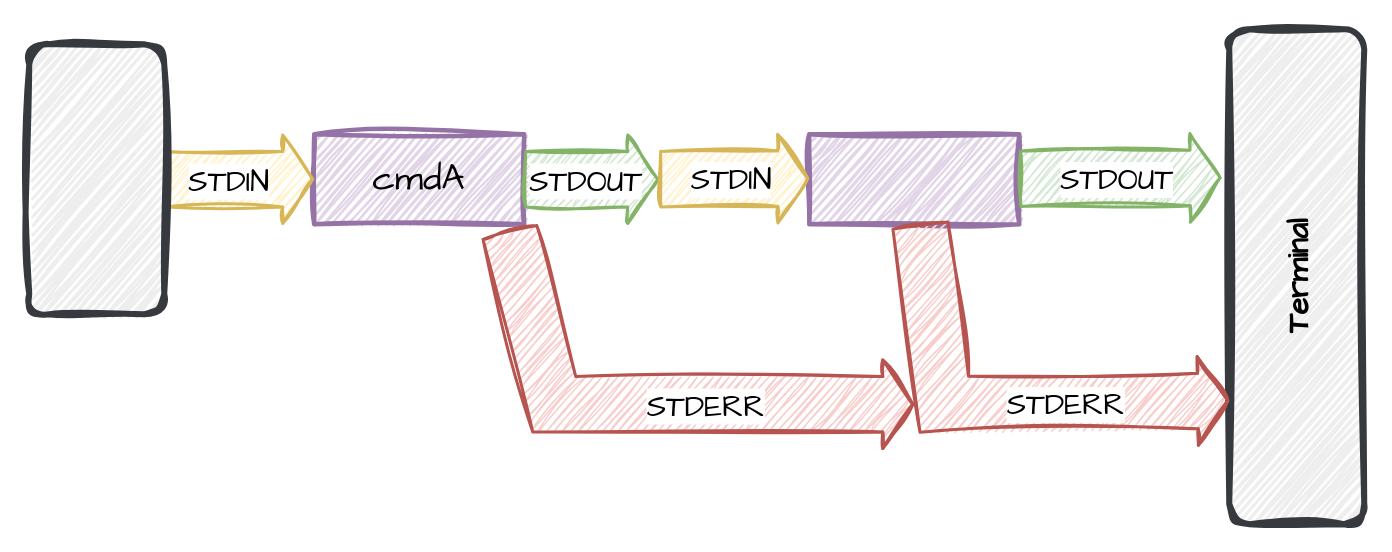
Image size: 1392x552. Some labels were removed from this diagram. The shapes that lost their labels are listed below. From the top down, each one's centre as x and y in pixels, then its label:
(x=96, y=178): Keyboard
(x=913, y=178): cmdB
